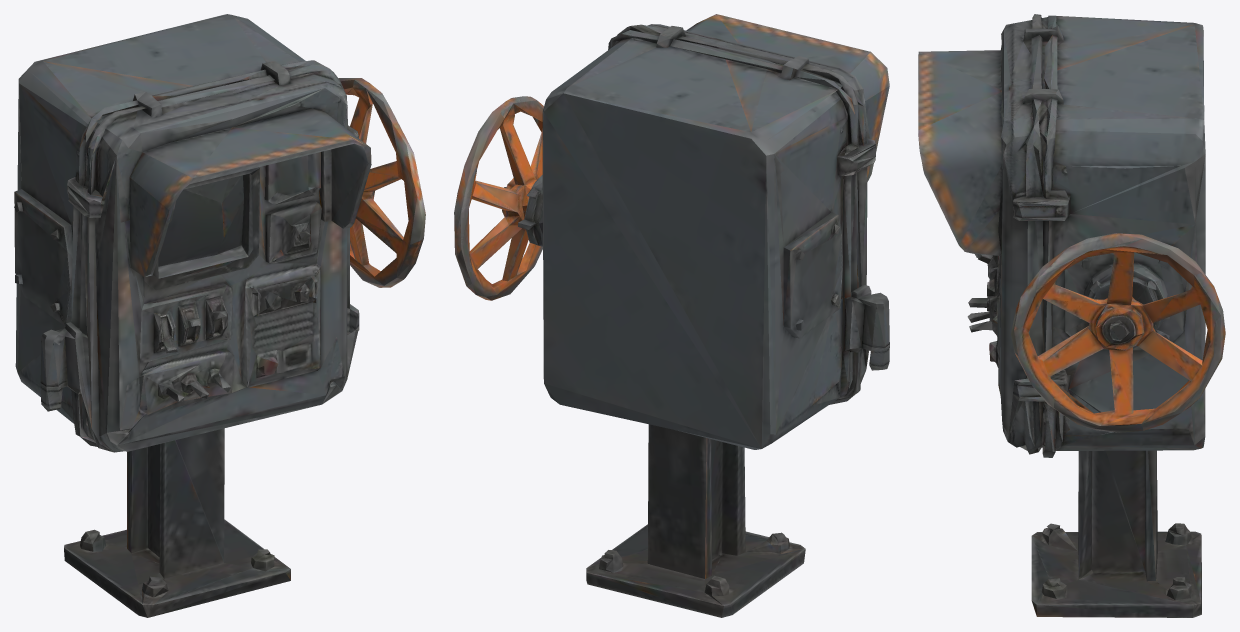
File: relay.glb
3 renders of one model, left to right at view 1: azimuth 30°, elevation 25°; view 2: azimuth 150°, elevation 25°; view 3: azimuth 270°, elevation 25°, orthographic. The views are drawn at different scales.
Parts seen in each view (by area): view 1: Mesh_0; view 2: Mesh_0; view 3: Mesh_0.
Boxes of the visible parts, x1,y1,x2,y2 form: Mesh_0: [14, 14, 425, 617]; Mesh_0: [454, 14, 889, 617]; Mesh_0: [918, 14, 1225, 617].
Size of the model in its own units: 1.19 by 1.6 by 0.8564.
Materials: 1 (1 with a texture image).
